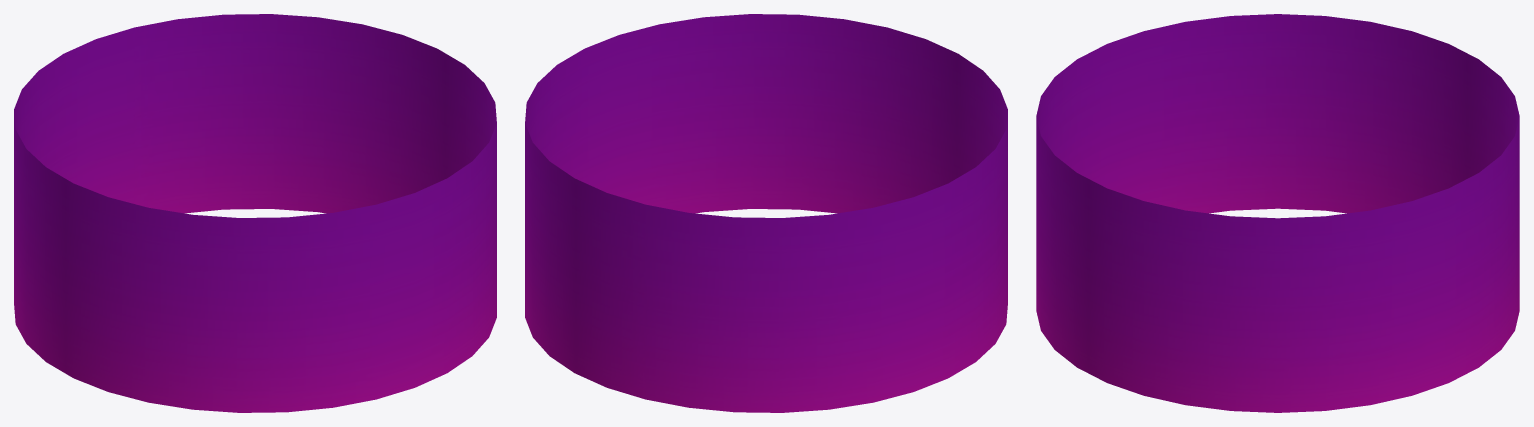
Rendered from sky.glb.
3 renders of one model, left to right at view 1: azimuth 30°, elevation 25°; view 2: azimuth 150°, elevation 25°; view 3: azimuth 270°, elevation 25°, orthographic.
Parts seen in each view (by area): view 1: Cylinder.009; view 2: Cylinder.009; view 3: Cylinder.009.
Boxes of the visible parts, <box> form: Cylinder.009: <box>14,14,496,412</box>; Cylinder.009: <box>525,14,1007,412</box>; Cylinder.009: <box>1036,14,1519,412</box>.
Size of the model in its own units: 40.82 by 18.15 by 40.82.
1 material, 1 textured.
